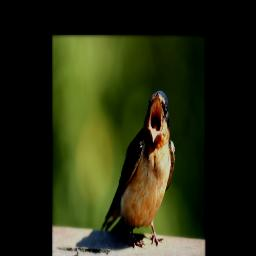Swallow: (100, 89, 176, 249)
